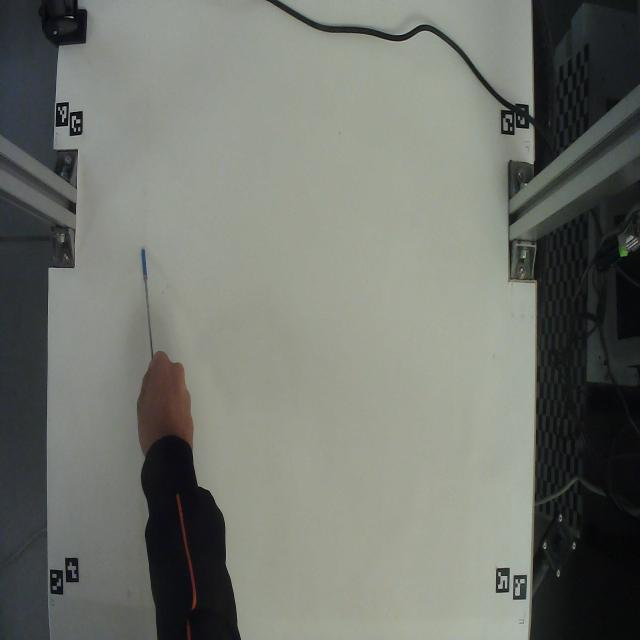Pres: (123, 222, 174, 371)
